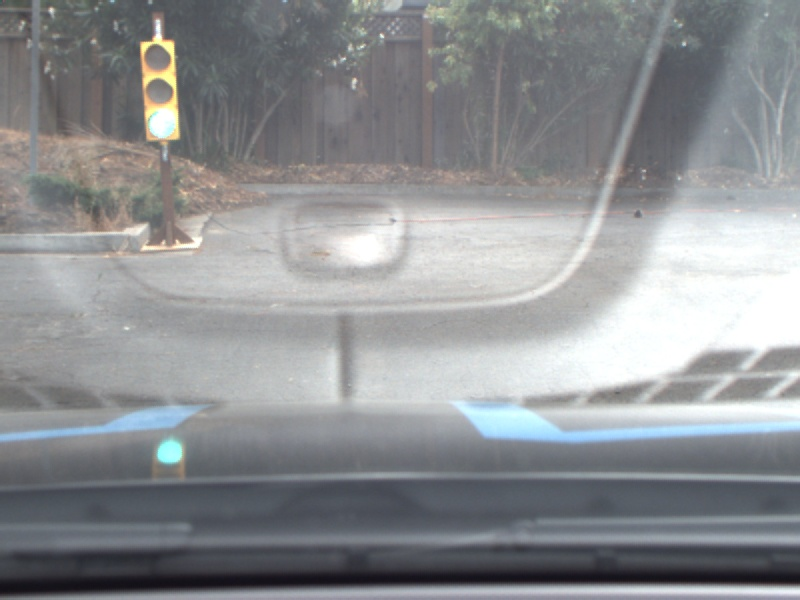green: (136, 28, 184, 139)
